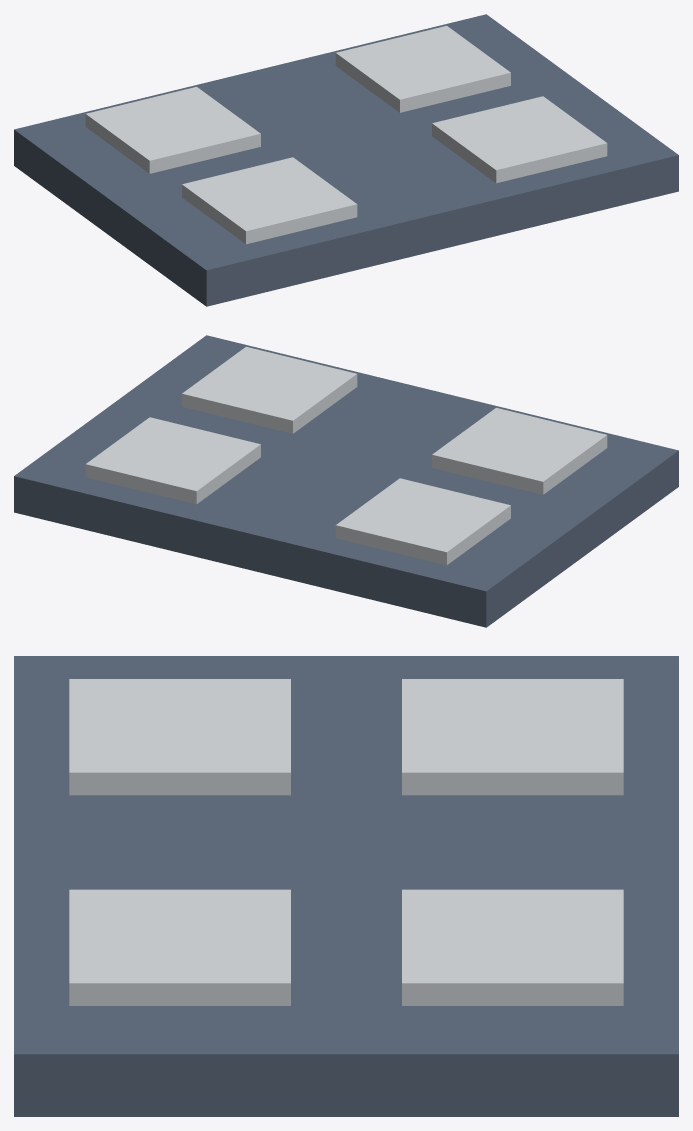
The model's file is cooktop-black-premium.gltf.
3 renders of one model, top to bottom at view 1: azimuth 30°, elevation 25°; view 2: azimuth 150°, elevation 25°; view 3: azimuth 270°, elevation 25°, orthographic. The views are drawn at different scales.
Parts seen in each view (by area): view 1: cooktop-black-premium; view 2: cooktop-black-premium; view 3: cooktop-black-premium.
Boxes of the visible parts, x1,y1,x2,y2 form: cooktop-black-premium: [14, 14, 678, 306]; cooktop-black-premium: [14, 335, 678, 627]; cooktop-black-premium: [14, 656, 678, 1116].
Bounding box in the file's own units: 0.68 × 0.069 × 0.48.
